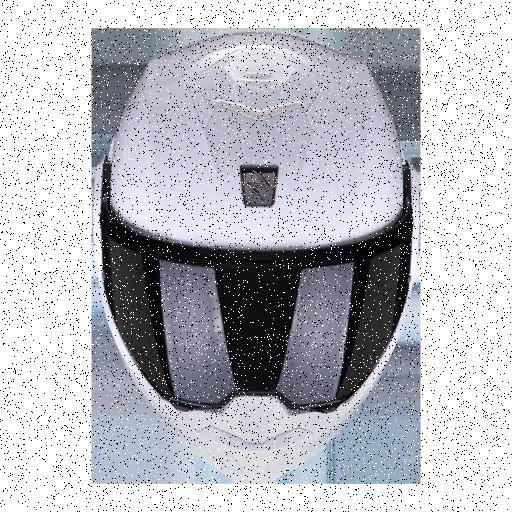Helmet: (86, 36, 432, 466)
